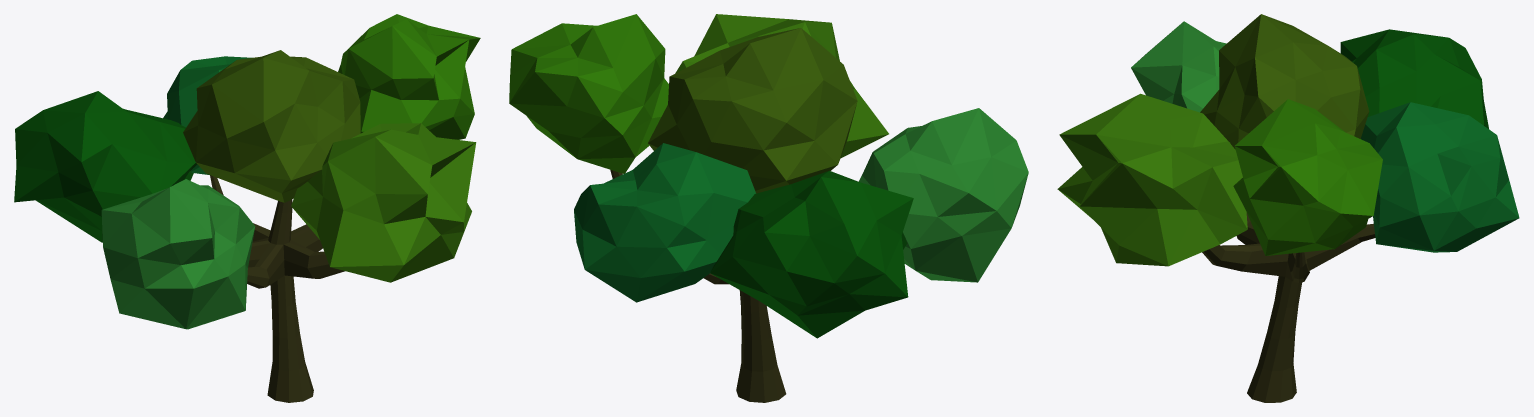
File: Sketchfab_2017_09_01_21_37_34.fbx
The picture shows the model from 3 angles, left to right: view 1: azimuth 30°, elevation 25°; view 2: azimuth 150°, elevation 25°; view 3: azimuth 270°, elevation 25°; orthographic projection. The views are drawn at different scales.
Visible parts, largest first — view 1: Cylinder; view 2: Cylinder; view 3: Cylinder.
Part boxes in pixels (x1,y1,x2,y2): Cylinder: (14, 14, 480, 402); Cylinder: (509, 14, 1028, 402); Cylinder: (1057, 14, 1519, 402).
Size of the model in its own units: 324 by 255 by 295.
